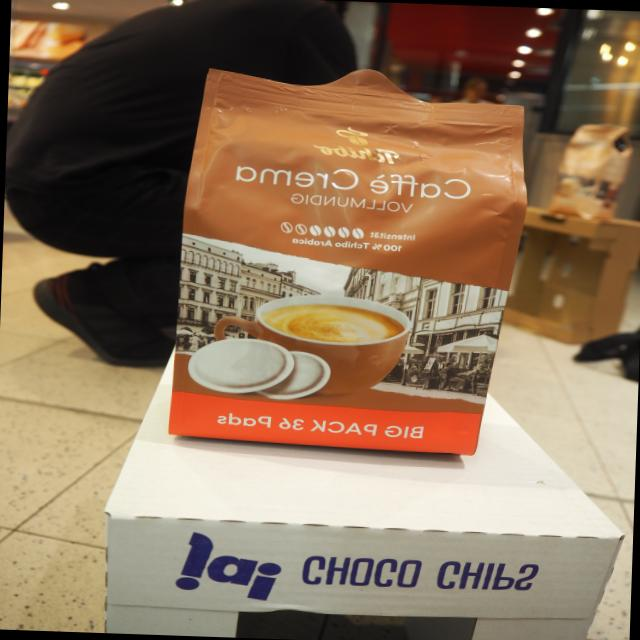CC Vollmundig: (163, 56, 540, 461)
